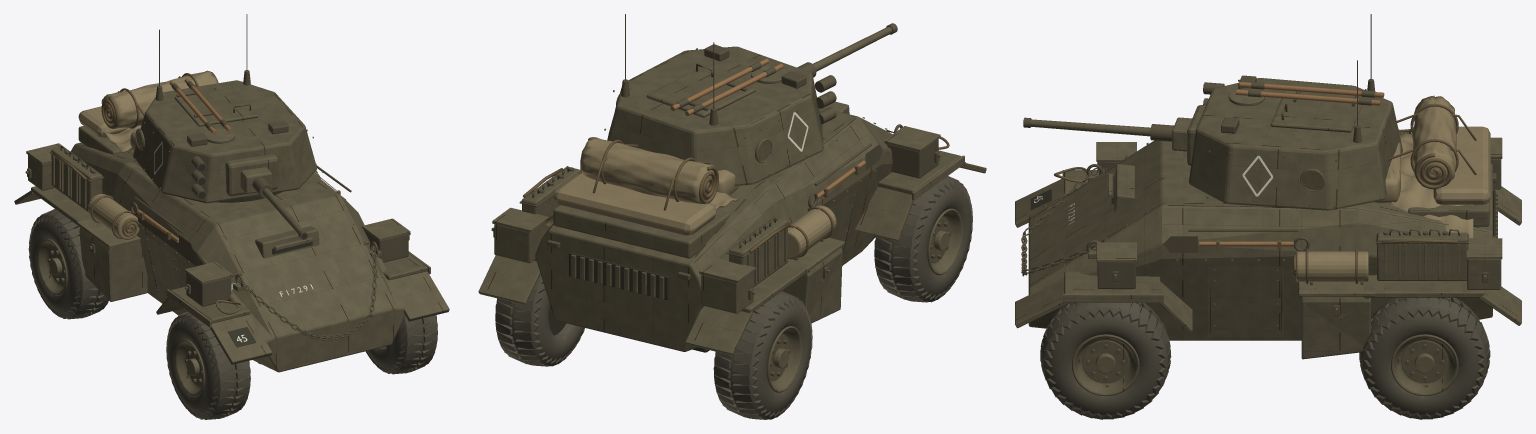
Rendered from runtime-reference.glb.
The picture shows the model from 3 angles, left to right: view 1: azimuth 30°, elevation 25°; view 2: azimuth 150°, elevation 25°; view 3: azimuth 270°, elevation 25°; orthographic projection. The views are drawn at different scales.
Parts seen in each view (by area): view 1: hull--armor-surface-0, turret-pivot--armor-surface-0, front-fenders--armor-surface-0, wheel-left-front--rubber-surface-0, rear-stowage--canvas-surface-0, wheel-left-rear--rubber-surface-0, side-boxes--armor-surface-0, wheel-right-front--rubber-surface-0, hull--armor-edge-surface-0, front-fenders--armor-edge-surface-0, front-fenders--steel-surface-0, hatch--armor-surface-0 (+16 smaller); view 2: hull--armor-surface-0, turret-pivot--armor-surface-0, rear-stowage--canvas-surface-0, wheel-left-rear--rubber-surface-0, wheel-left-front--rubber-surface-0, rear-fenders--armor-surface-0, wheel-right-rear--rubber-surface-0, front-fenders--armor-surface-0, rear-boxes--armor-surface-0, rear-stowage--armor-surface-0, side-boxes--armor-surface-0, hatch--armor-surface-0 (+17 smaller); view 3: hull--armor-surface-0, turret-pivot--armor-surface-0, rear-stowage--canvas-surface-0, wheel-right-rear--rubber-surface-0, wheel-right-front--rubber-surface-0, hull--armor-edge-surface-0, front-fenders--armor-surface-0, side-boxes--armor-surface-0, rear-stowage--armor-surface-0, rear-fenders--armor-surface-0, wheel-right-rear--armor-surface-0, wheel-right-front--armor-surface-0 (+15 smaller).
Boxes of the visible parts, x1,y1,x2,y2 form: hull--armor-surface-0: (70,126,404,372); turret-pivot--armor-surface-0: (133,80,316,203); front-fenders--armor-surface-0: (156,254,449,364); wheel-left-front--rubber-surface-0: (166,311,250,419); rear-stowage--canvas-surface-0: (78,70,320,239); wheel-left-rear--rubber-surface-0: (28,209,108,319); side-boxes--armor-surface-0: (79,228,147,301); wheel-right-front--rubber-surface-0: (365,315,437,374); hull--armor-edge-surface-0: (75,144,337,314); front-fenders--armor-edge-surface-0: (166,218,430,327); front-fenders--steel-surface-0: (186,230,408,306); hatch--armor-surface-0: (174,87,258,126); hull--armor-surface-0: (535,101,892,351); turret-pivot--armor-surface-0: (607,46,823,186); rear-stowage--canvas-surface-0: (544,137,836,259); wheel-left-rear--rubber-surface-0: (713,291,812,419); wheel-left-front--rubber-surface-0: (874,176,972,302); rear-fenders--armor-surface-0: (478,255,823,355); wheel-right-rear--rubber-surface-0: (495,274,584,366); front-fenders--armor-surface-0: (854,150,986,241); rear-boxes--armor-surface-0: (494,223,753,313); rear-stowage--armor-surface-0: (522,166,787,286); side-boxes--armor-surface-0: (782,247,842,323); hatch--armor-surface-0: (646,69,755,117); hull--armor-surface-0: (1028,140,1497,340); turret-pivot--armor-surface-0: (1189,78,1402,210); rear-stowage--canvas-surface-0: (1296,96,1490,281); wheel-right-rear--rubber-surface-0: (1359,297,1490,419); wheel-right-front--rubber-surface-0: (1040,302,1171,419); hull--armor-edge-surface-0: (1108,173,1488,337); front-fenders--armor-surface-0: (1015,171,1192,332); side-boxes--armor-surface-0: (1301,296,1370,359); rear-stowage--armor-surface-0: (1377,132,1468,280); rear-fenders--armor-surface-0: (1339,186,1521,325); wheel-right-rear--armor-surface-0: (1391,334,1458,396); wheel-right-front--armor-surface-0: (1071,334,1139,396).
Bounding box in the file's own units: 2.76 × 3.32 × 4.61.
Materials: 10 (9 with a texture image).
